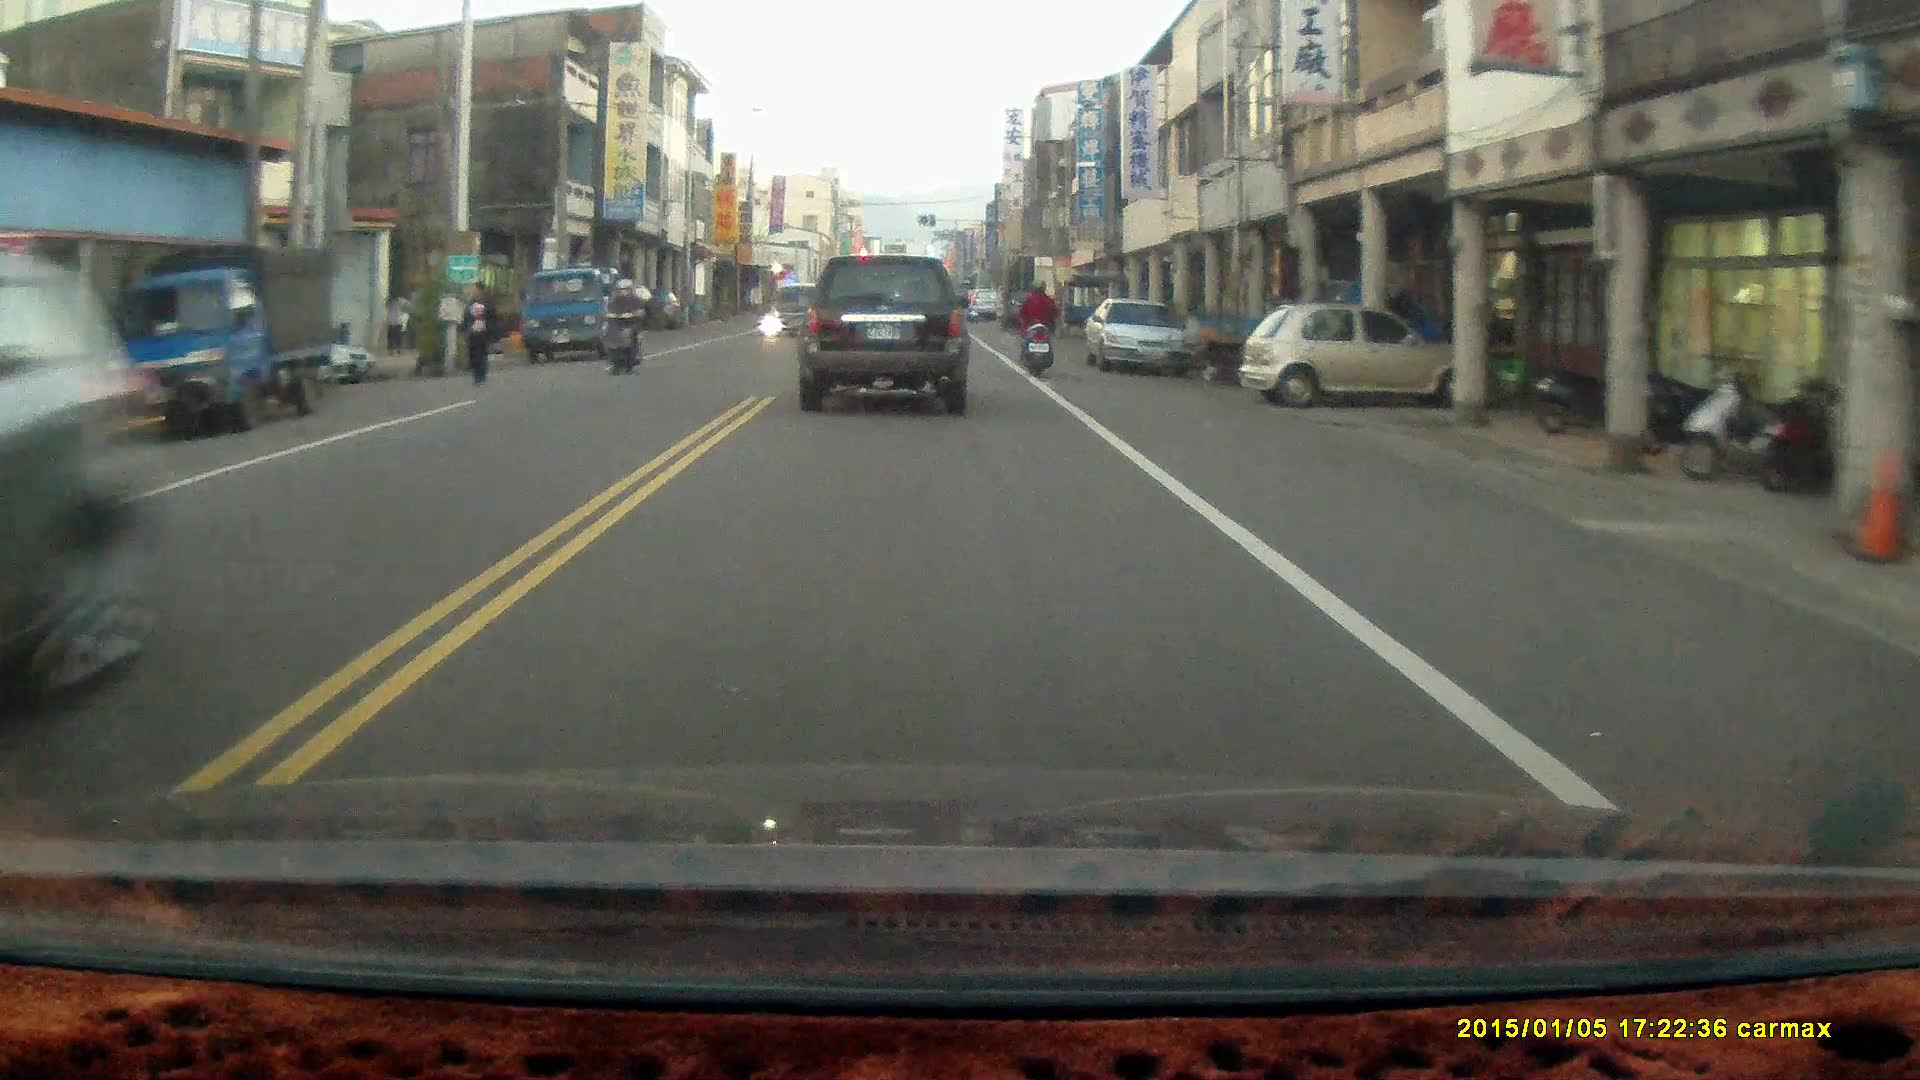pedestrian: (460, 276, 501, 386)
rider: (597, 275, 648, 373), (1017, 274, 1056, 373)
vehicle: (105, 235, 340, 445), (794, 250, 973, 416), (1243, 301, 1485, 406), (524, 264, 656, 360), (1086, 299, 1192, 375)
